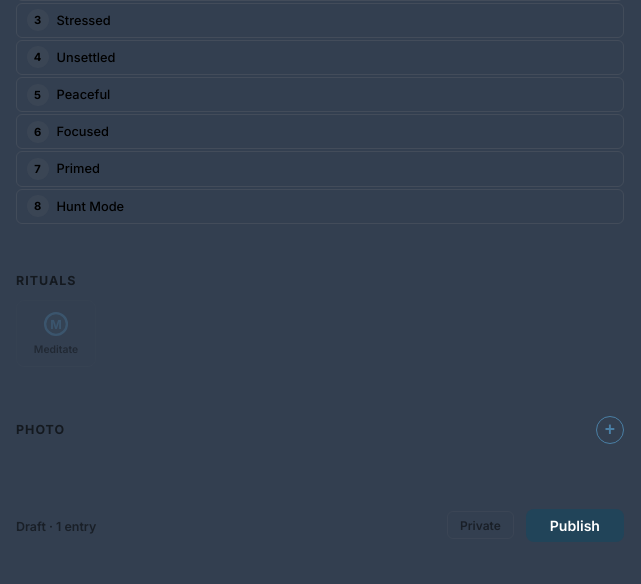
Test case: /today — failures never lose writing › shows no success tick when publishing fails
(page scrolled)
Click the button "Publish" at [575, 525], box [526,509,624,542]
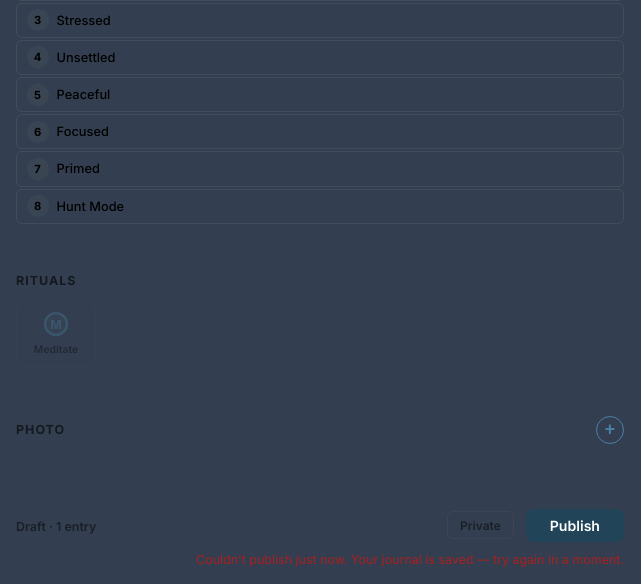
expect the text "Couldn't publish just now" is shown: met, box [196,552,624,567]
